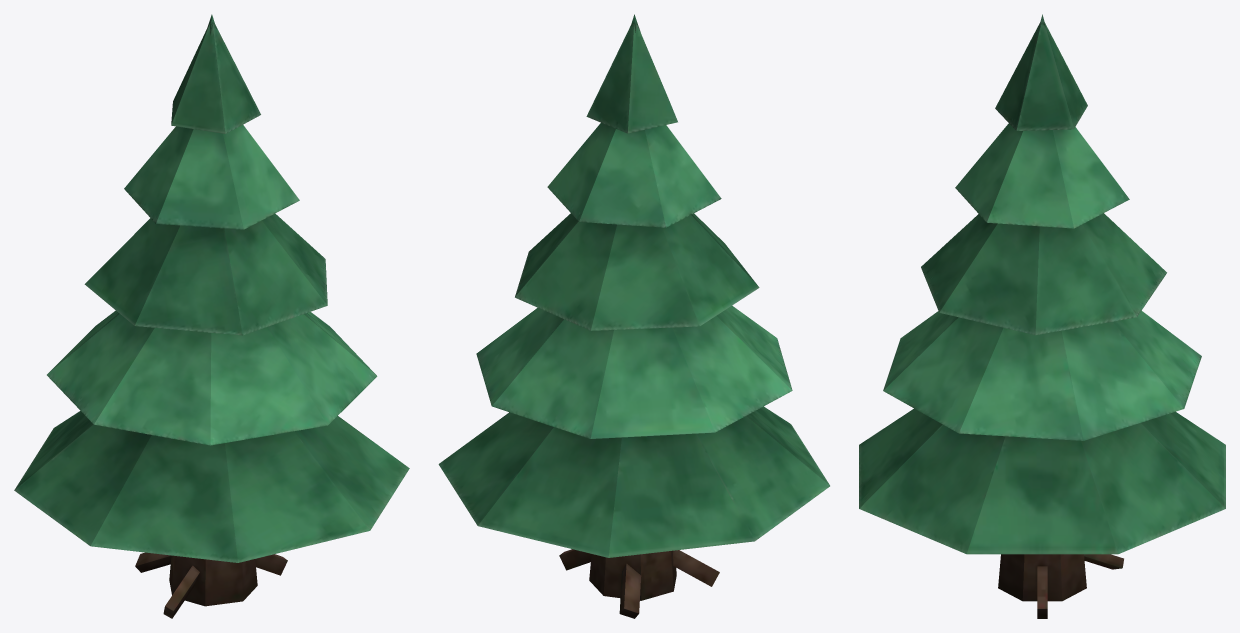
Rendered from tree_pine.glb.
3 renders of one model, left to right at view 1: azimuth 30°, elevation 25°; view 2: azimuth 150°, elevation 25°; view 3: azimuth 270°, elevation 25°, orthographic.
Parts seen in each view (by area): view 1: Static_Mesh; view 2: Static_Mesh; view 3: Static_Mesh.
Part boxes in pixels (x1=…): Static_Mesh: x1=14, y1=14, x2=409, y2=618; Static_Mesh: x1=438, y1=14, x2=829, y2=618; Static_Mesh: x1=859, y1=14, x2=1225, y2=618.
Bounding box in the file's own units: 4.34 × 7.5 × 4.34.
Materials: 1 (1 with a texture image).
